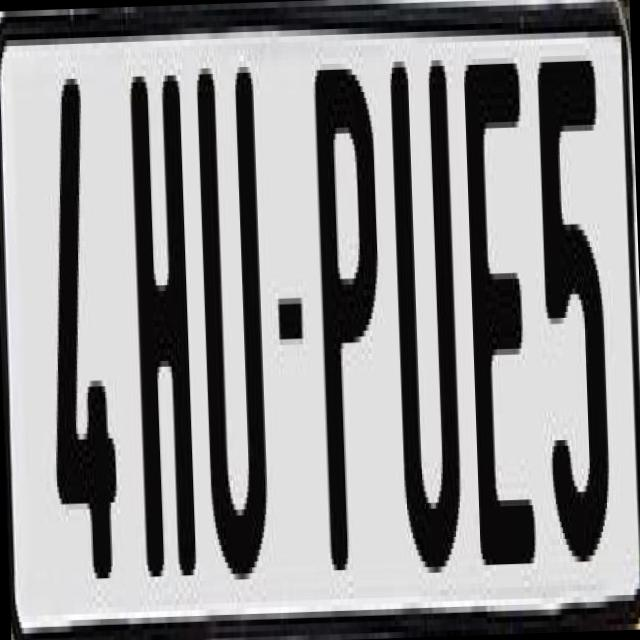4: (41, 71, 124, 574)
5: (532, 48, 608, 568)
E: (460, 57, 542, 570)
H: (124, 62, 194, 594)
P: (313, 50, 397, 553)
U: (194, 60, 275, 586), (384, 59, 462, 586)
